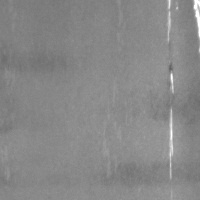scratches: (164, 61, 180, 186), (163, 1, 177, 47)
